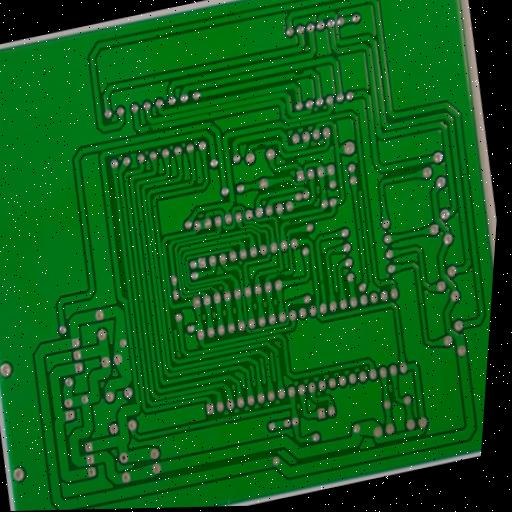mouse_bite: (285, 215, 304, 227), (253, 138, 270, 151), (291, 68, 309, 80), (272, 270, 288, 280), (144, 123, 157, 134)
